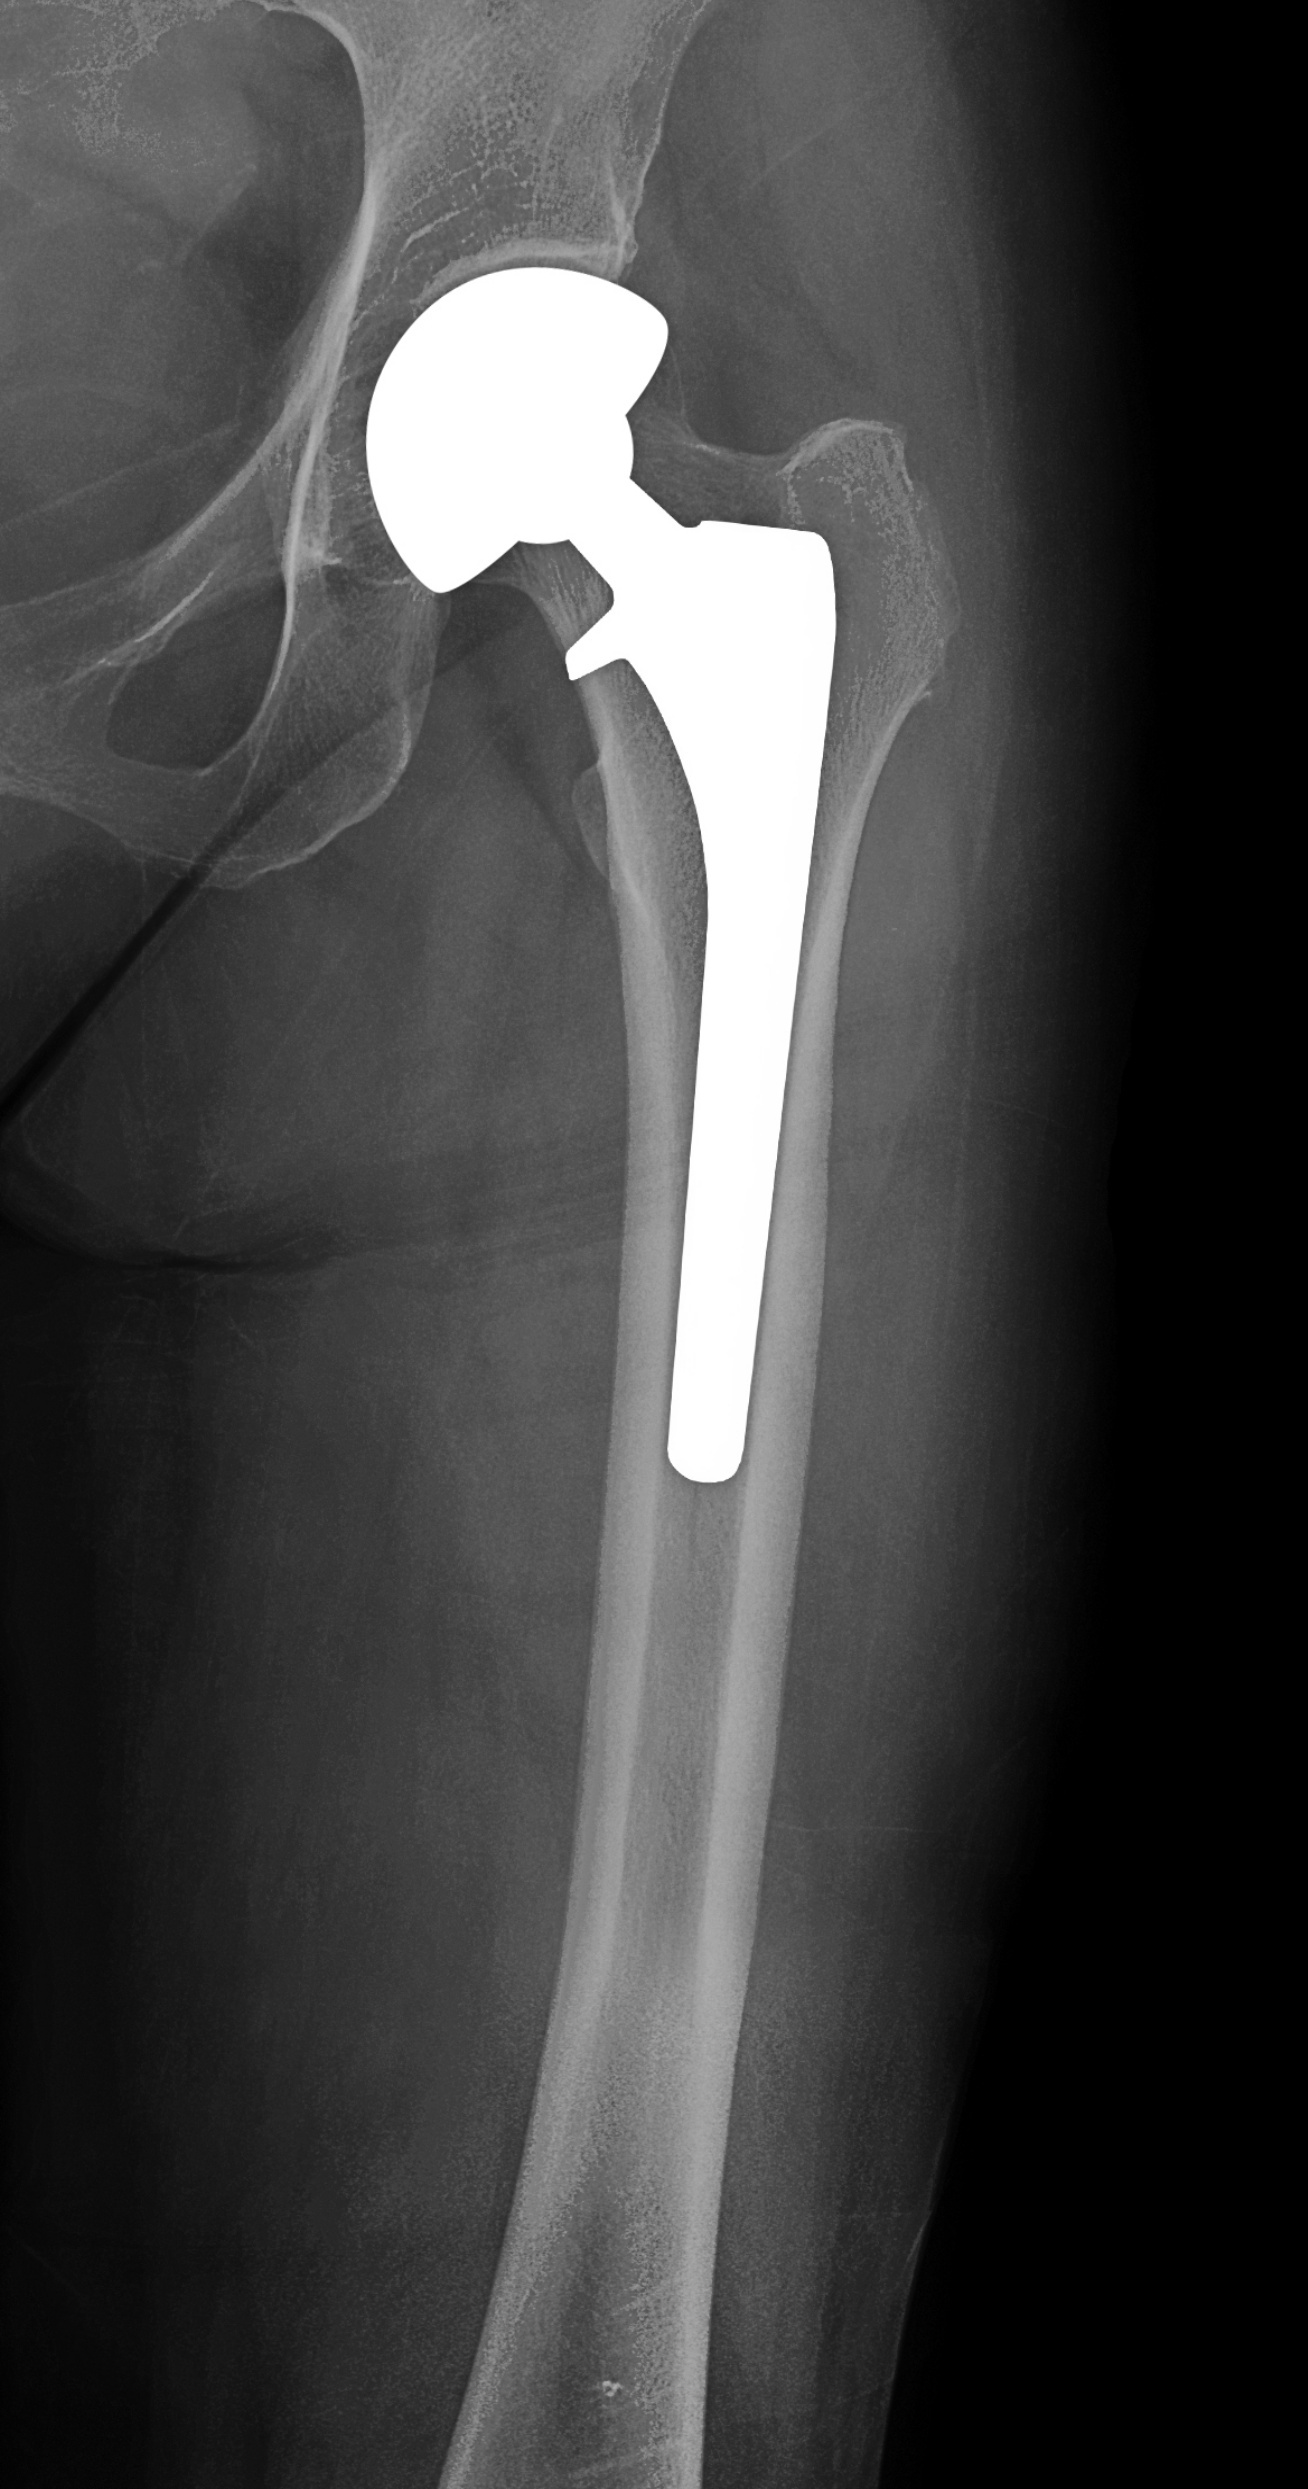Hip - APR - Zimmer: (299, 235, 885, 1569)
